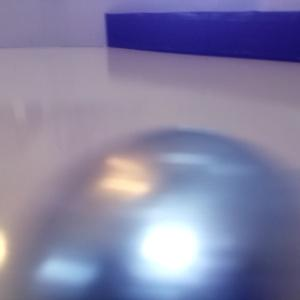zone: (104, 10, 300, 64)
